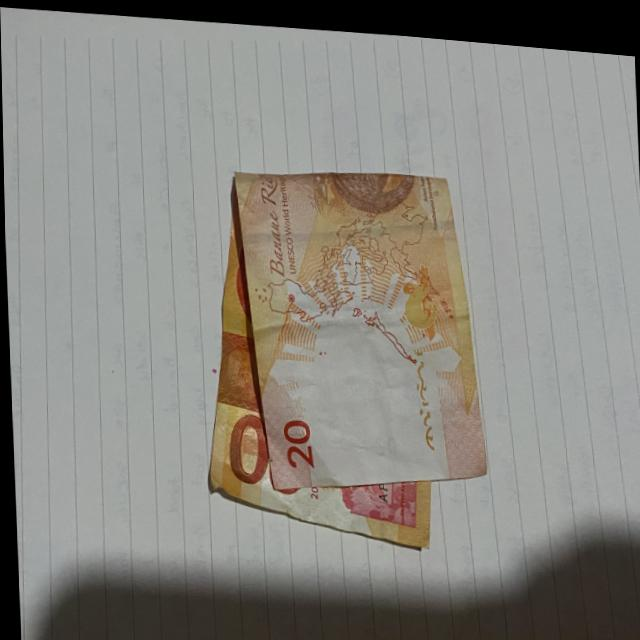concealed_value: (215, 326, 249, 406)
see_through_mark: (407, 346, 434, 445)
value: (225, 410, 260, 487)
watermark: (301, 321, 429, 453)
